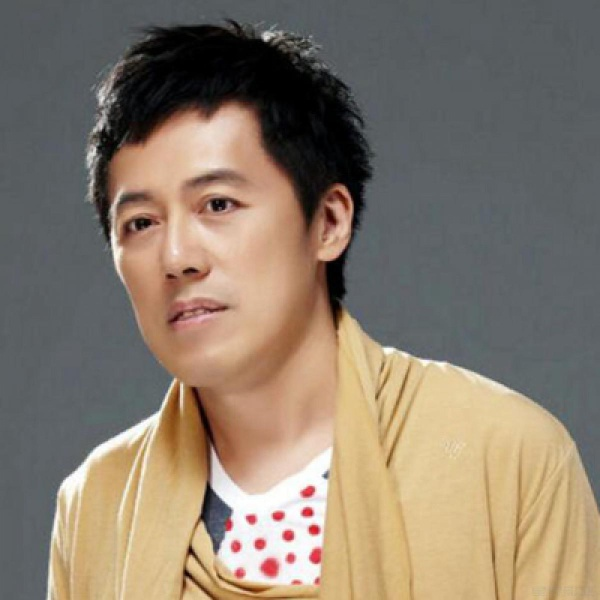male: (71, 14, 382, 395)
